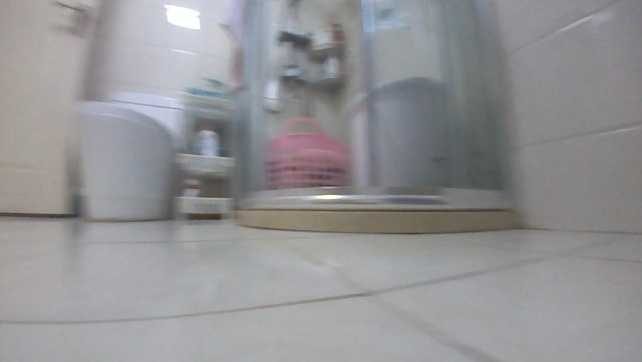toilet: (72, 88, 189, 222)
